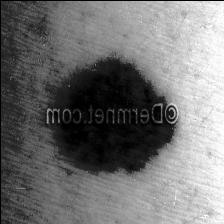Potentially Malignant Skin Tumors: (64, 73, 176, 160)
